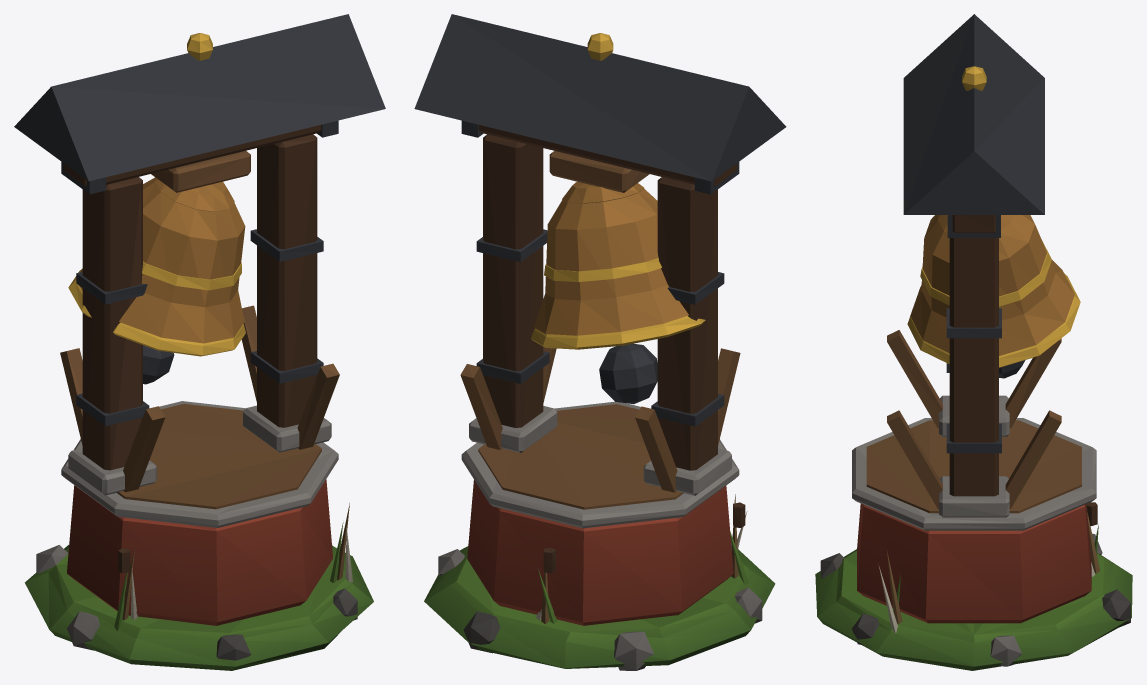
Rendered from great_clapper.glb.
3 views of the same model, side by side, from view 1: azimuth 30°, elevation 25°; view 2: azimuth 150°, elevation 25°; view 3: azimuth 270°, elevation 25° (orthographic). The views are drawn at different scales.
Parts seen in each view (by area): view 1: great_clapper; view 2: great_clapper; view 3: great_clapper.
Part boxes in pixels (x1,y1,x2,y2): great_clapper: (14,14,385,670); great_clapper: (414,14,786,670); great_clapper: (815,14,1132,670).
Bounding box in the file's own units: 0.9387 × 1.69 × 0.899.
